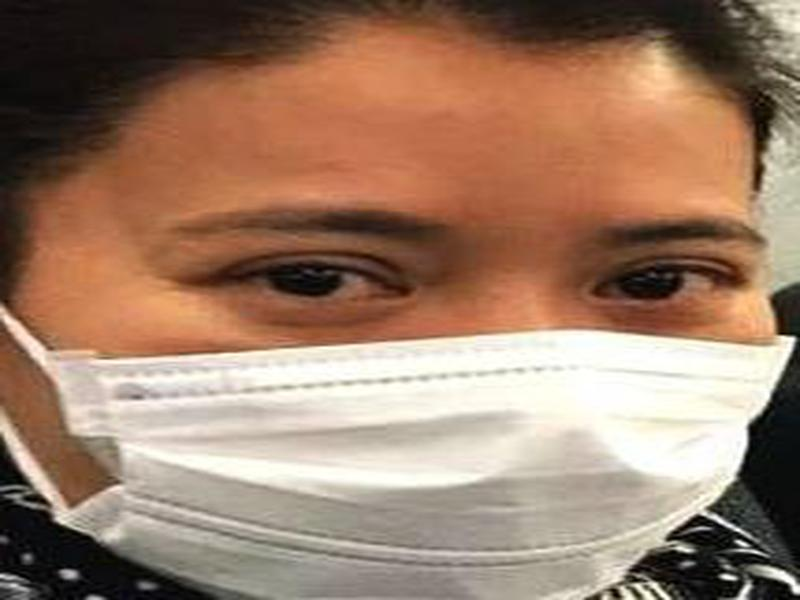with_mask: (1, 8, 788, 600)
